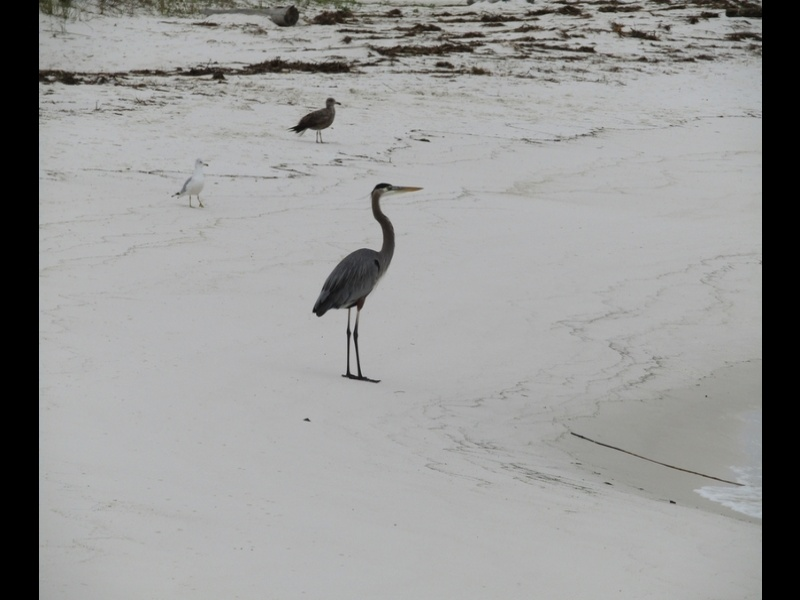heron: (309, 180, 425, 383)
